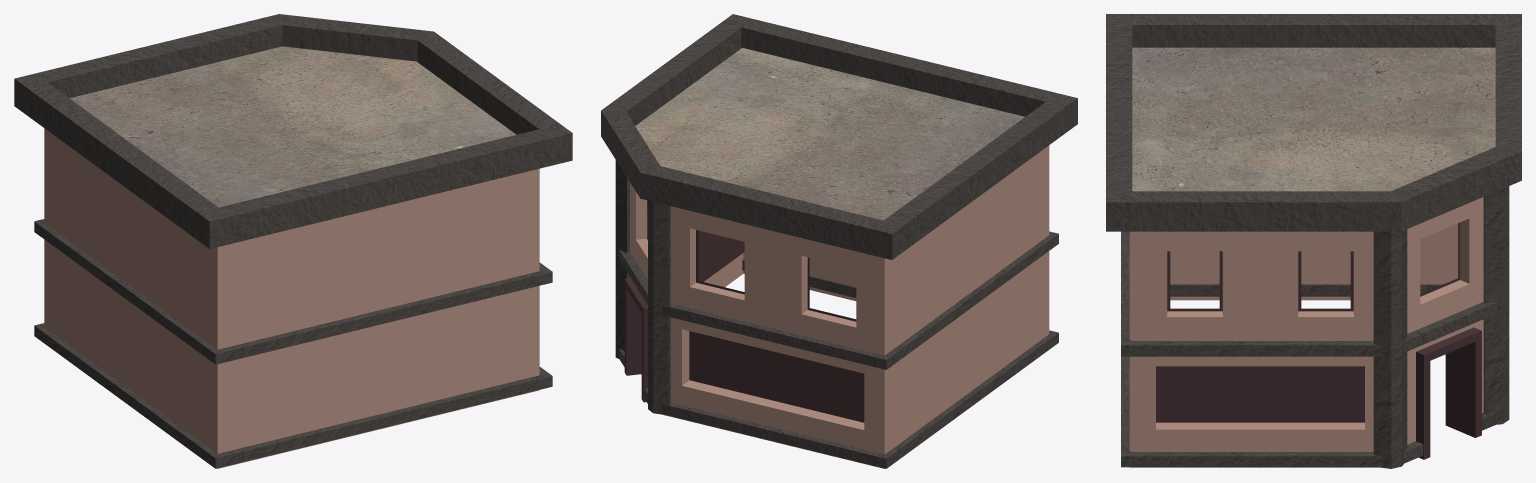
3 views of the same model, side by side, from view 1: azimuth 30°, elevation 25°; view 2: azimuth 150°, elevation 25°; view 3: azimuth 270°, elevation 25° (orthographic). The views are drawn at different scales.
Visible parts, largest first — view 1: Building4; view 2: Building4; view 3: Building4.
Part boxes in pixels (<box>): Building4: <box>14,14,572,468</box>; Building4: <box>601,14,1077,468</box>; Building4: <box>1106,14,1521,468</box>.
Size of the model in its own units: 17.09 by 11.7 by 15.94.
